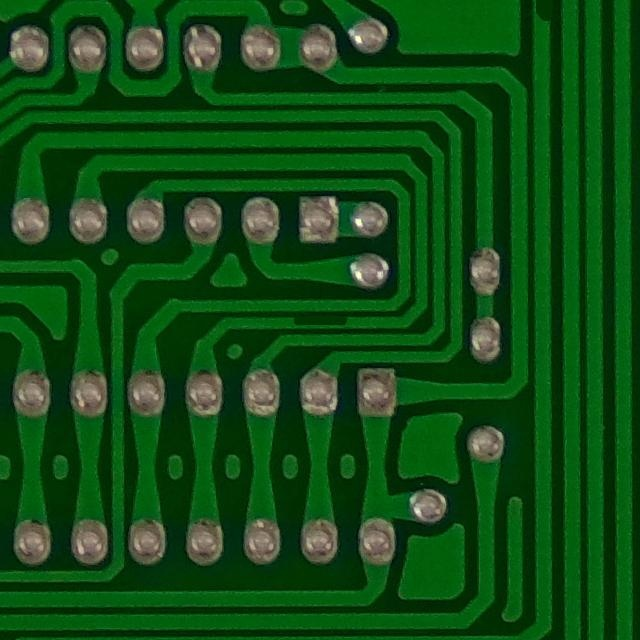mouse_bite: (285, 305, 355, 336)
